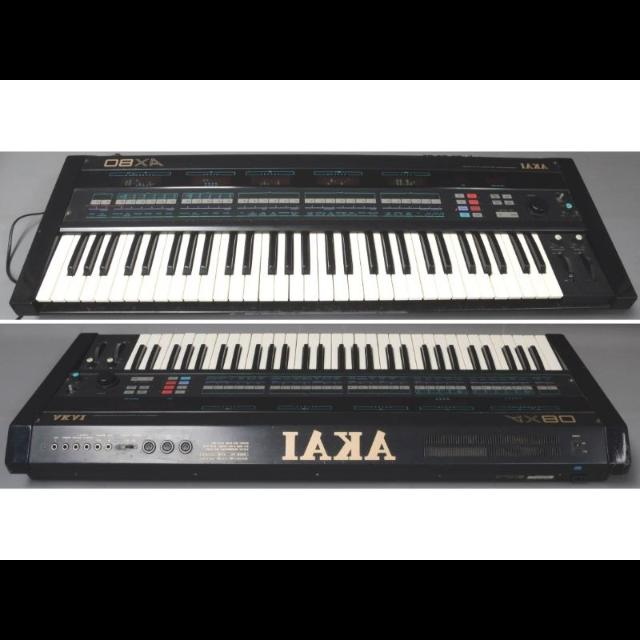Electronic-Keyboard: (19, 336, 631, 480), (20, 156, 622, 302)
